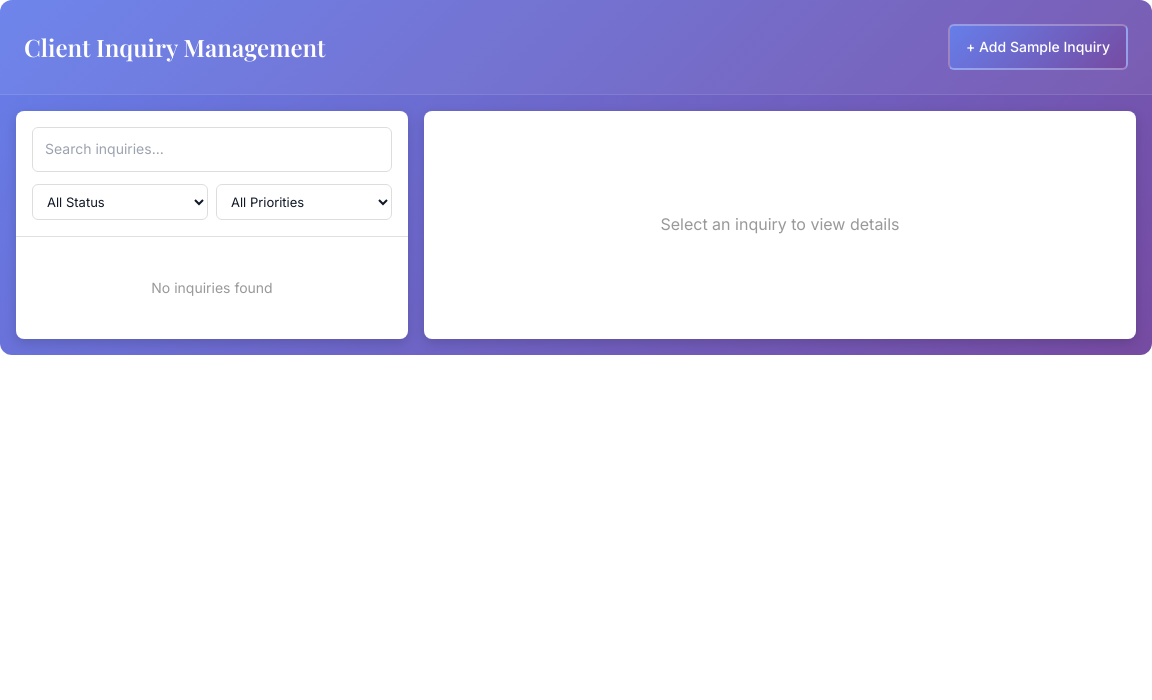
Scenario: InquiryManagement Component › Inquiry Selection and Details › should show inquiry contact information
Click the button with test id "btn-add-inquiry". click: coordinates (1038, 47)
box: [948,24,1128,70]
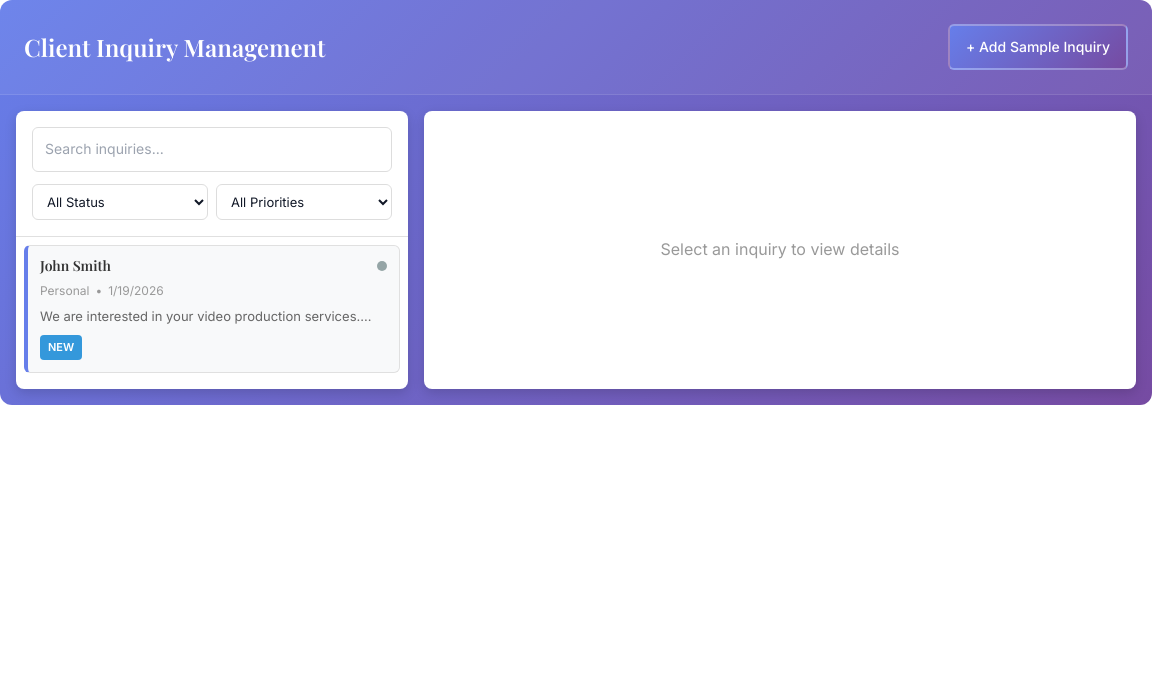
Check: the text "No inquiries found" is gone
Click the element with test id "^inquiry-item-". click: coordinates (212, 309)
box: [24,245,400,373]
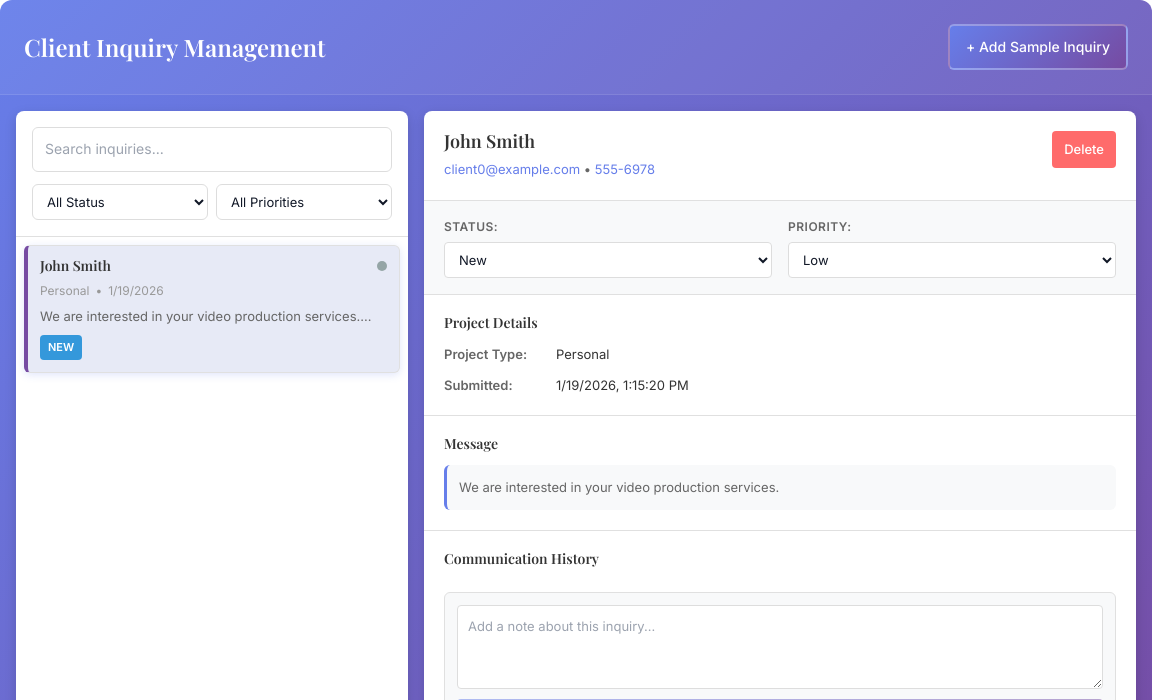
Check: the link "client0@example.com" is shown, box [444,161,580,177]
